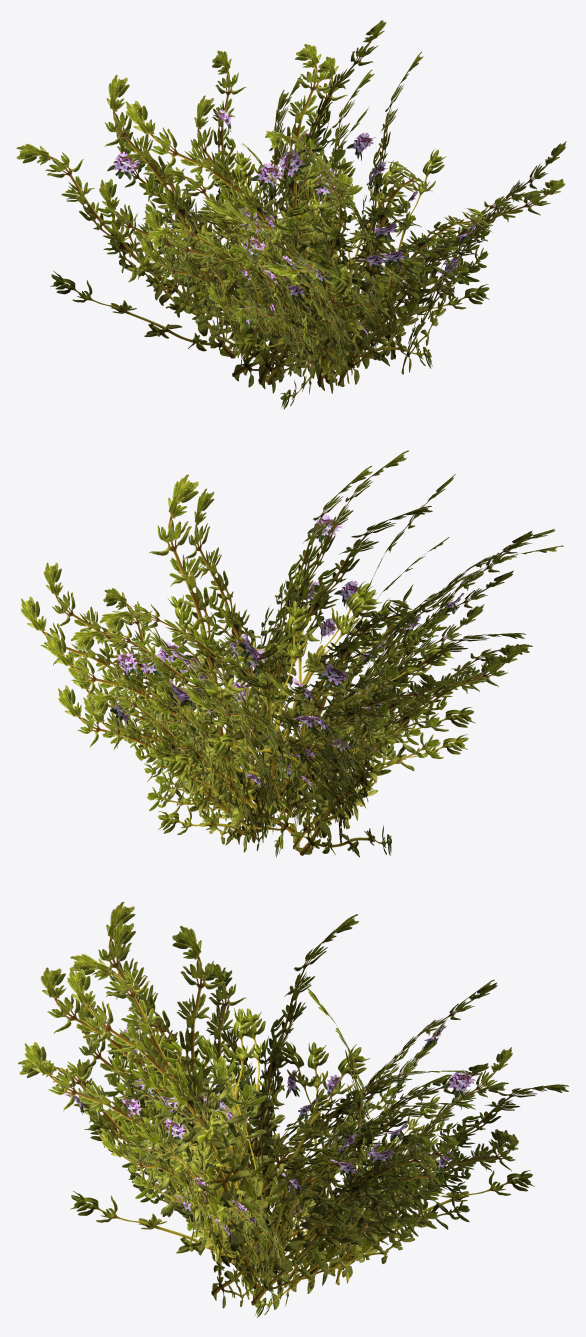
The model's file is thyme.glb.
3 views of the same model, one above another, from view 1: azimuth 30°, elevation 25°; view 2: azimuth 150°, elevation 25°; view 3: azimuth 270°, elevation 25° (orthographic). The views are drawn at different scales.
Parts seen in each view (by area): view 1: LOD0; view 2: LOD0; view 3: LOD0.
Part boxes in pixels (x1,y1,x2,y2): LOD0: [16, 20, 566, 409]; LOD0: [20, 450, 563, 857]; LOD0: [18, 901, 568, 1317].
Size of the model in its own units: 1.01 by 0.7266 by 1.05.
1 material, 1 textured.
